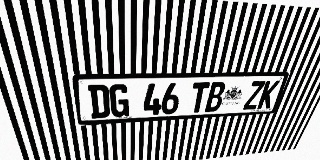4: (143, 83, 163, 116)
6: (161, 83, 181, 114)
B: (205, 82, 227, 112)
D: (88, 84, 110, 119)
G: (109, 84, 129, 117)
K: (257, 80, 280, 109)
T: (189, 82, 210, 113)
Z: (243, 81, 266, 110)
